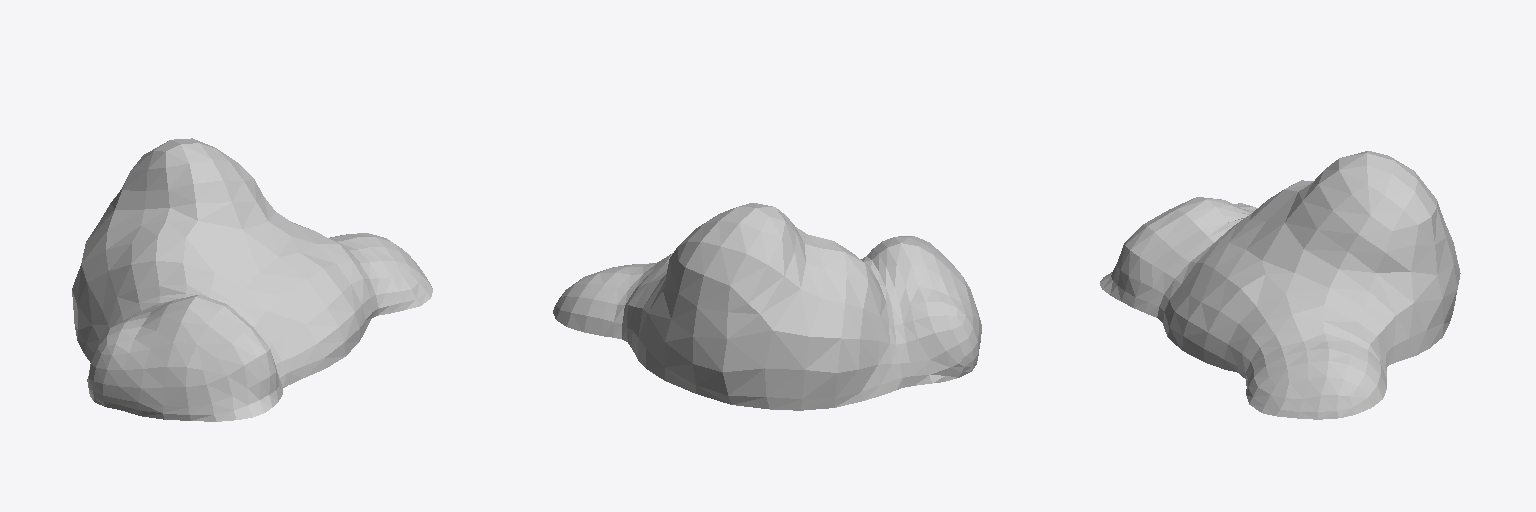
File: stone1.obj
The picture shows the model from 3 angles: view 1: azimuth 30°, elevation 25°; view 2: azimuth 150°, elevation 25°; view 3: azimuth 270°, elevation 25°; orthographic projection.
Visible parts, largest first — view 1: stone1_Group1.007; view 2: stone1_Group1.007; view 3: stone1_Group1.007.
Boxes of the visible parts, x1,y1,x2,y2 form: stone1_Group1.007: [72, 138, 432, 421]; stone1_Group1.007: [553, 203, 981, 410]; stone1_Group1.007: [1100, 151, 1460, 419].
Size of the model in its own units: 2.48 by 1.13 by 2.1.